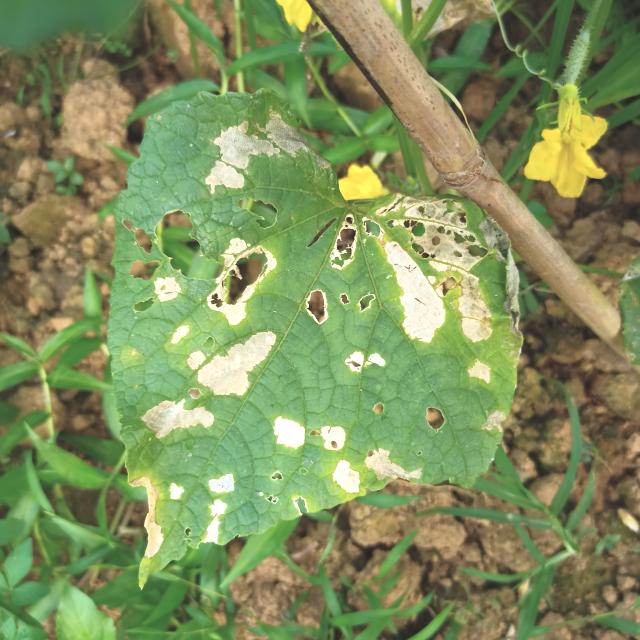disease_cucumber: (76, 319, 434, 565), (301, 178, 531, 437), (124, 87, 293, 330)
